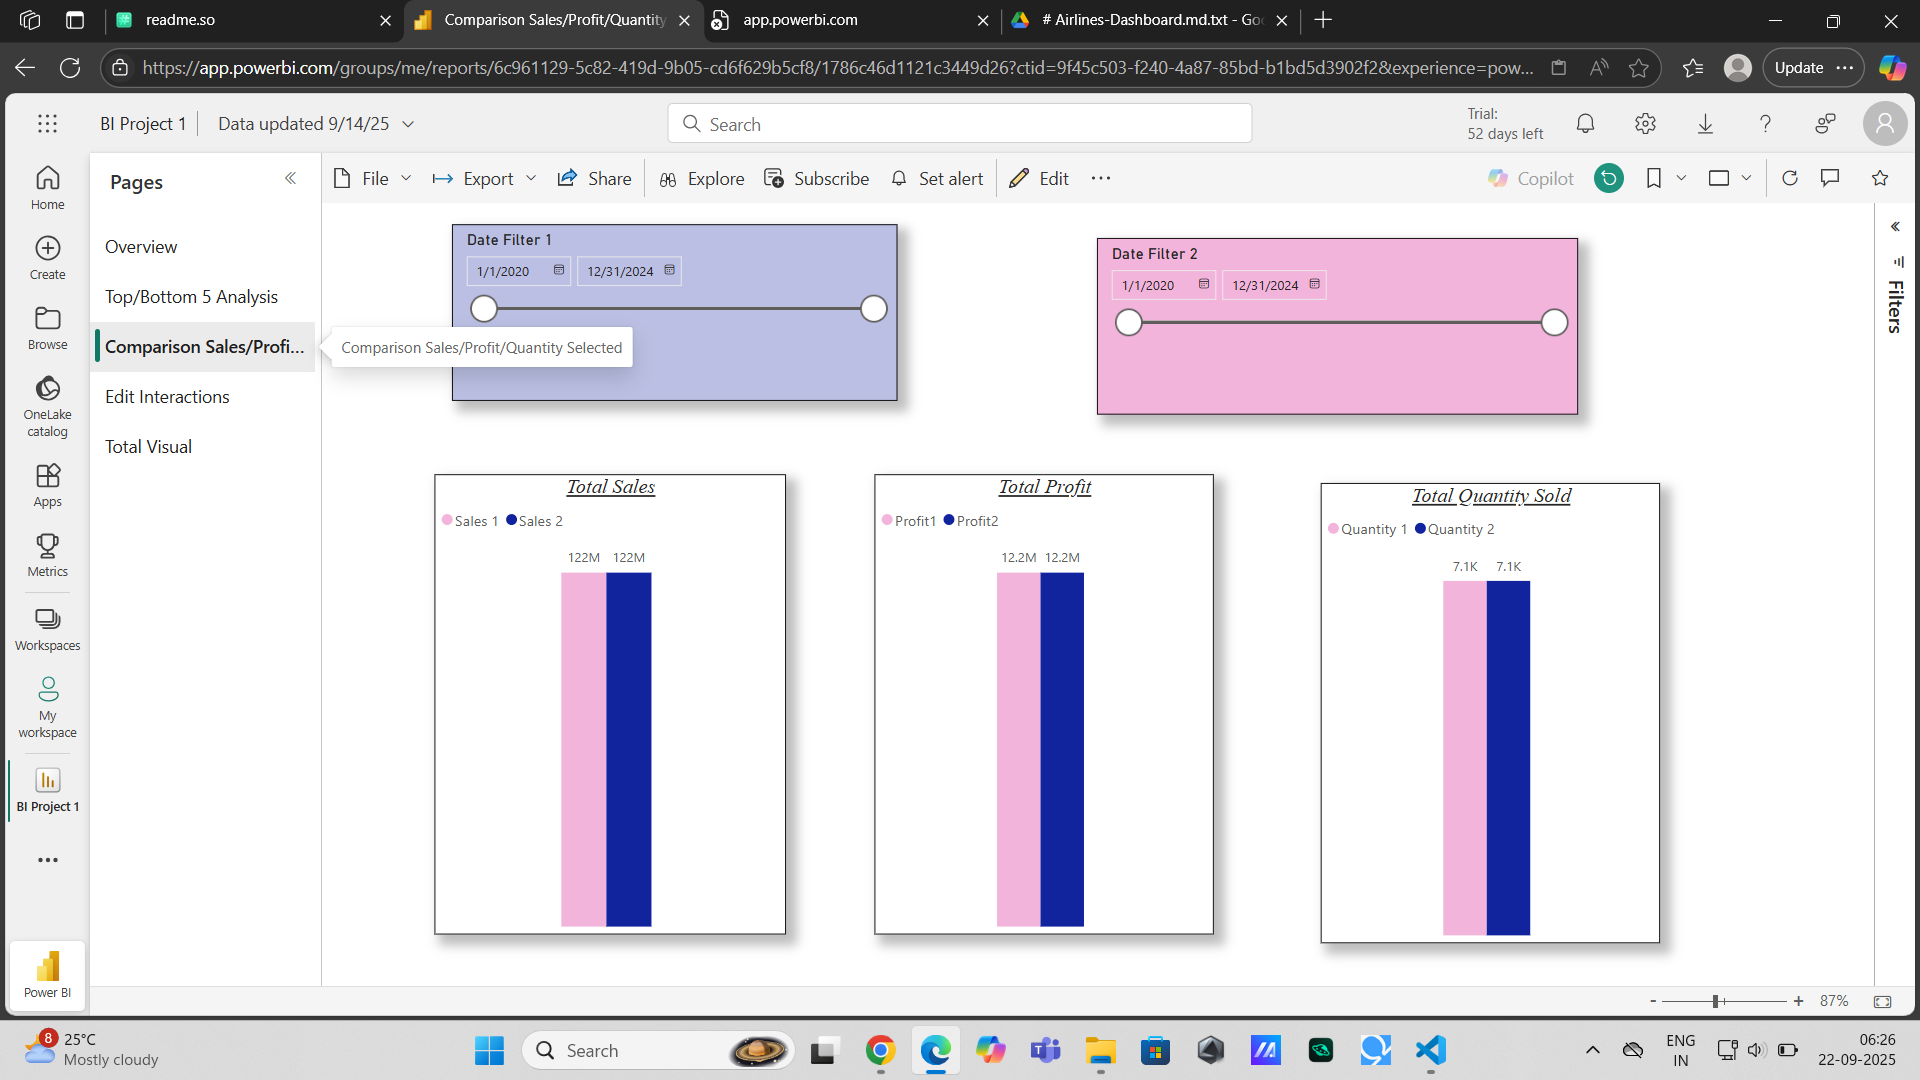

This screenshot's page, from the dashboard's own definition file:
{"tool":"powerbi","page":{"name":"Comparison Sales/Profit/Quantity","canvas":[1280,720],"ordinal":2},"visuals":[{"type":"slicer","fields":{"Values":["Date Table 1.Date"]},"box":[46.5,19.6,409.6,162.6],"z":0},{"type":"slicer","fields":{"Values":["Date Table 2.Date"]},"box":[639.5,31.8,442.7,162.6],"z":1000},{"type":"clusteredColumnChart","title":"Total Sales","fields":{"Y":["Sum(Fact Table.Net Sales)","Date Table 1.Sum Of Net Sales"]},"box":[29.3,249.5,322.8,423.1],"z":2000},{"type":"clusteredColumnChart","title":"Total Profit","fields":{"Y":["Sum(Fact Table.Profit)","Measure Table.Total Profit"]},"box":[434.1,249.5,311.8,423.1],"z":3000},{"type":"clusteredColumnChart","title":"Total Quantity Sold","fields":{"Y":["Sum(Fact Table.Units Sold)","Measure Table.Total Quantity"]},"box":[845,258,311.8,423.1],"z":4000}]}

Visuals, with their boxes on the page's 1280x720 design canvas (x1, y1, x2, y2). These are canvas units, not pixel positions in the 1920x1080 screenshot, which may show the page scaled, cropped or inside an application window:
slicer - Date Table 1.Date: rect(46, 20, 456, 182)
slicer - Date Table 2.Date: rect(640, 32, 1082, 194)
"Total Sales" clusteredColumnChart: rect(29, 250, 352, 673)
"Total Profit" clusteredColumnChart: rect(434, 250, 746, 673)
"Total Quantity Sold" clusteredColumnChart: rect(845, 258, 1157, 681)
